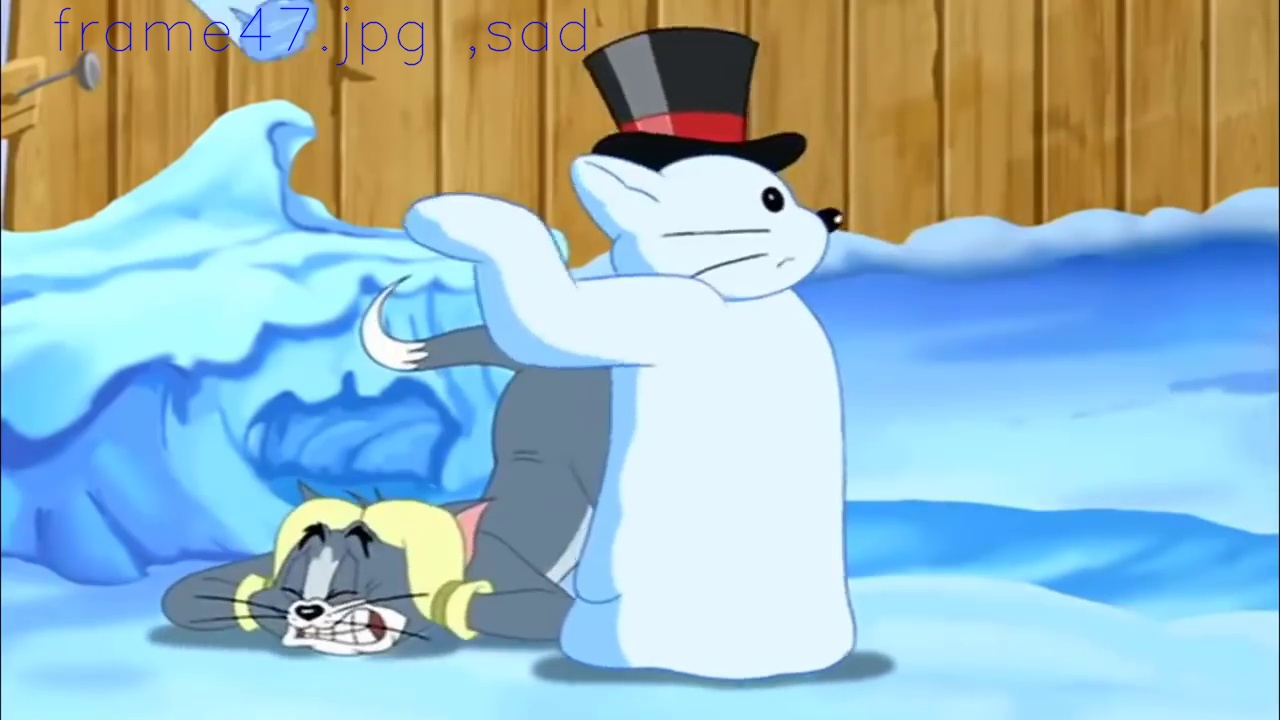sad: (282, 524, 386, 656)
